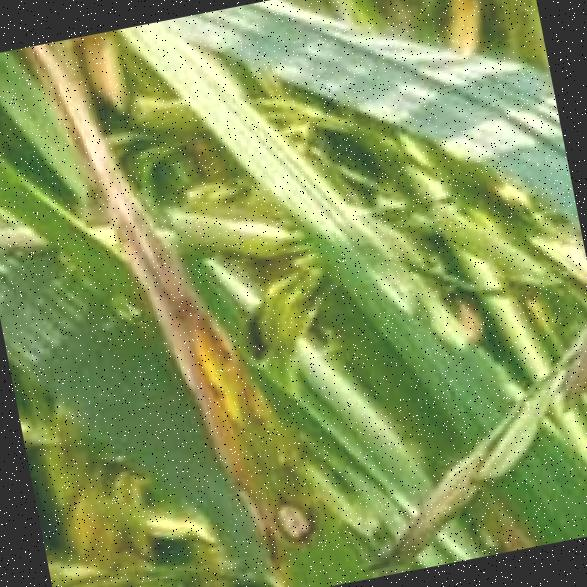Bacteria_Leaf_Blight: (4, 12, 321, 574)
